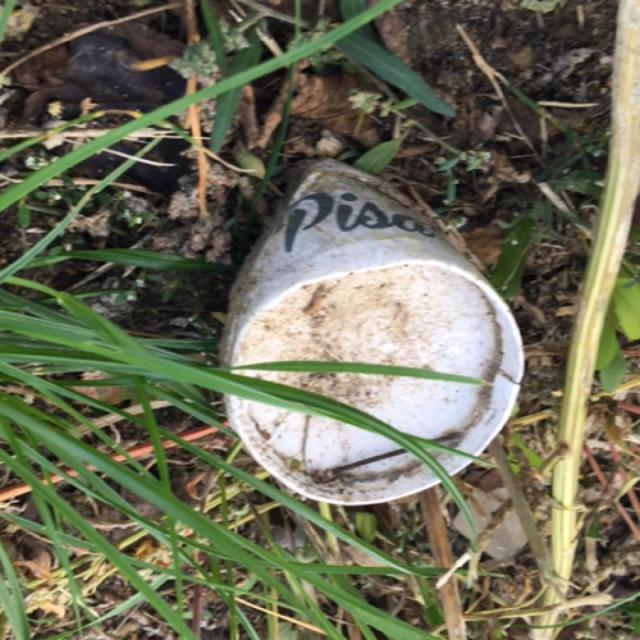Paper: (214, 154, 526, 511)
